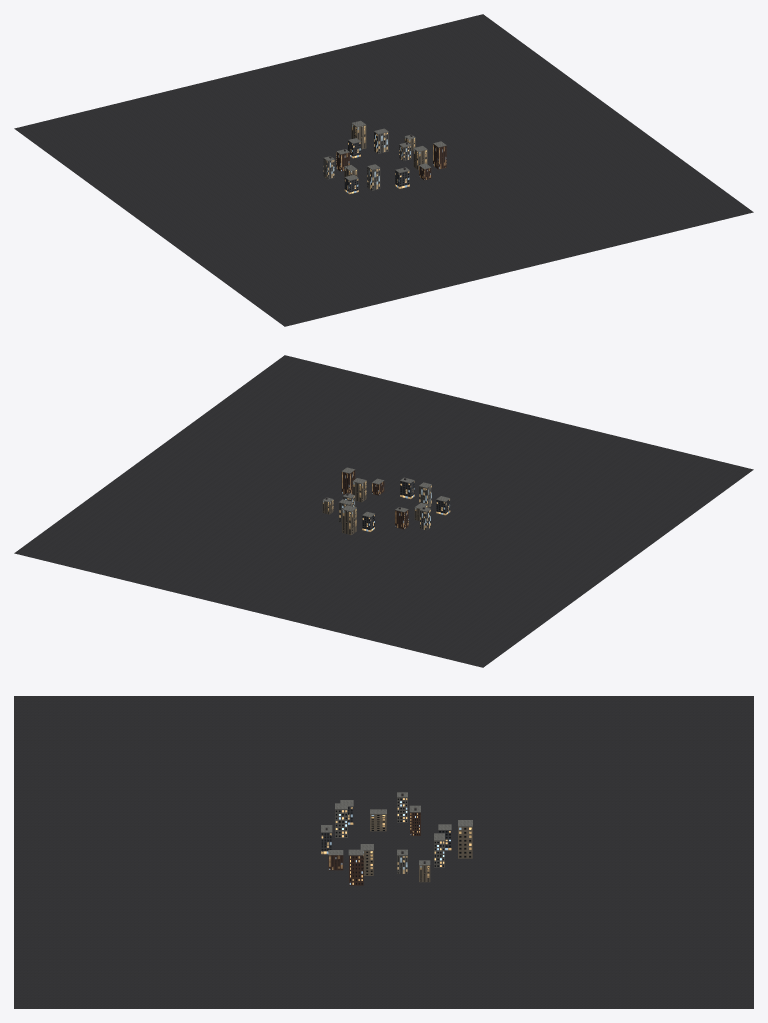
The model's file is mid_blocks.glb.
3 views of the same model, one above another, from view 1: azimuth 30°, elevation 25°; view 2: azimuth 150°, elevation 25°; view 3: azimuth 270°, elevation 25° (orthographic). The views are drawn at different scales.
Parts seen in each view (by area): view 1: mid_blocks; view 2: mid_blocks; view 3: mid_blocks.
Part boxes in pixels (x1,y1,x2,y2): mid_blocks: (14, 14, 753, 326); mid_blocks: (14, 355, 753, 667); mid_blocks: (14, 696, 753, 1008).
Bounding box in the file's own units: 800 × 44.63 × 800.
4 materials, 4 textured.
